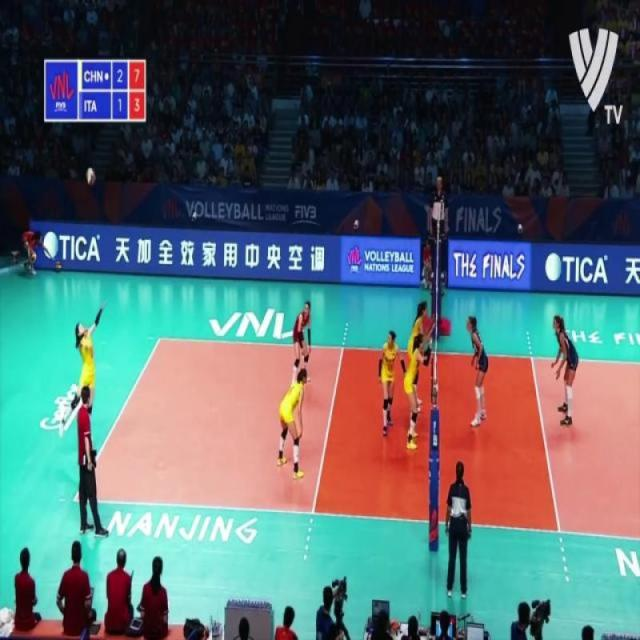volleyball: (86, 166, 96, 188), (55, 256, 63, 276), (28, 250, 38, 264)
